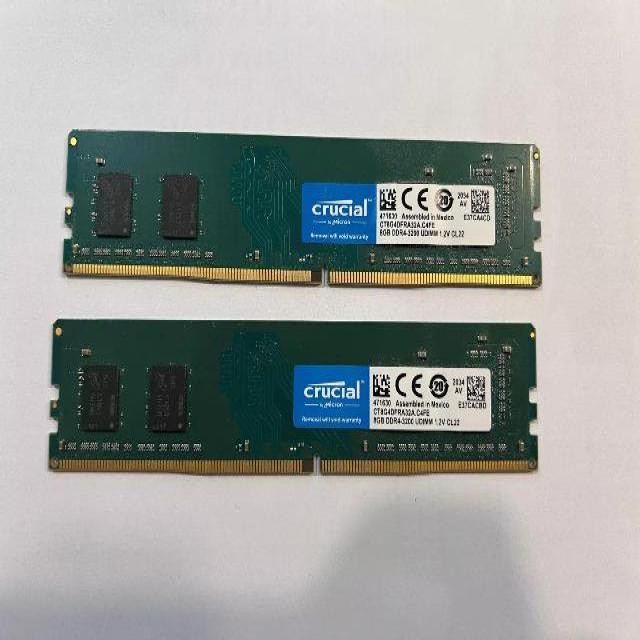RAM: (60, 128, 544, 292), (47, 317, 540, 478)
